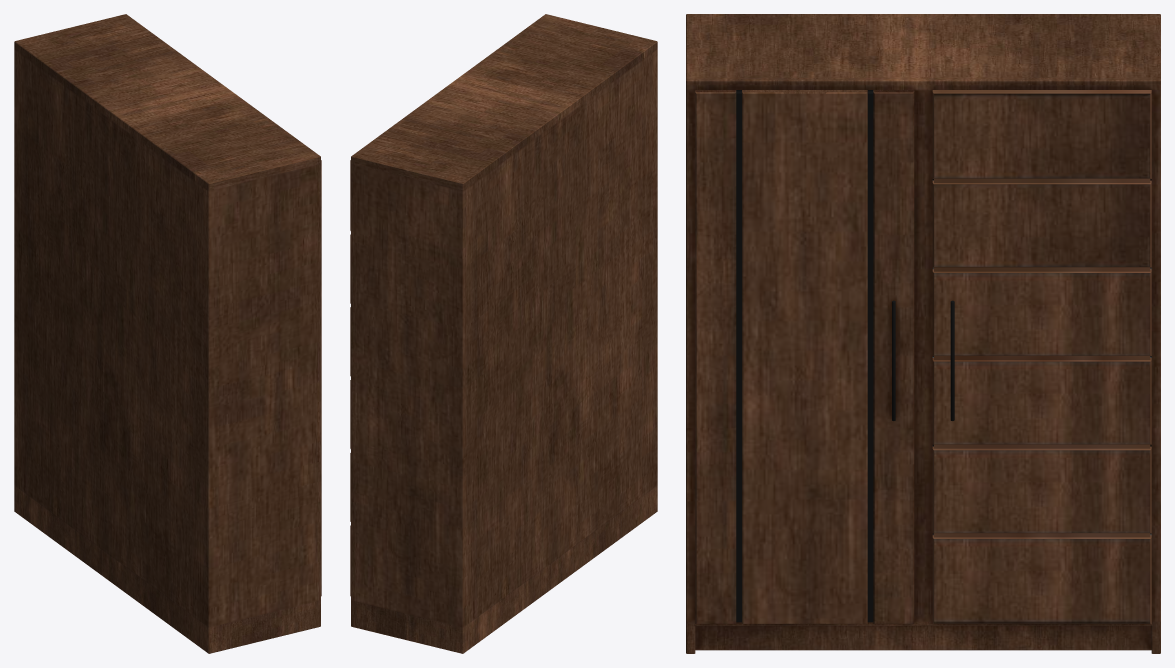
Rendered from Armario_1.fbx.
3 renders of one model, left to right at view 1: azimuth 30°, elevation 25°; view 2: azimuth 150°, elevation 25°; view 3: azimuth 270°, elevation 25°, orthographic. The views are drawn at different scales.
Parts seen in each view (by area): view 1: Armario_1; view 2: Armario_1; view 3: Armario_1.
Boxes of the visible parts, bbox=[...] form: Armario_1: bbox=[14, 14, 321, 653]; Armario_1: bbox=[350, 14, 657, 653]; Armario_1: bbox=[686, 14, 1160, 653].
Size of the model in its own units: 54.42 by 200 by 150.
Materials: 1 (1 with a texture image).
